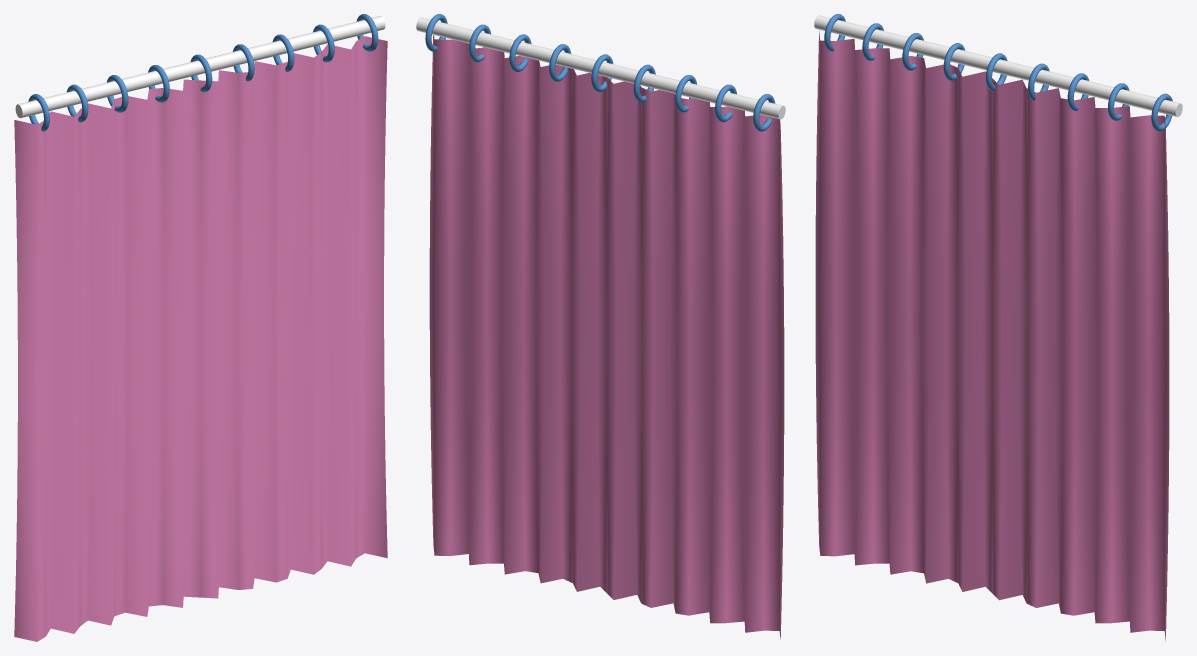
Rendered from curtain.fbx.
The picture shows the model from 3 angles, left to right: view 1: azimuth 30°, elevation 25°; view 2: azimuth 150°, elevation 25°; view 3: azimuth 330°, elevation 25°; orthographic projection.
Visible parts, largest first — view 1: Plane001, Cylinder001, Torus001; view 2: Plane001, Cylinder001, Torus001; view 3: Plane001, Cylinder001, Torus001.
Boxes of the visible parts, <box> form: Plane001: <box>14,36,387,641</box>; Cylinder001: <box>15,16,385,118</box>; Torus001: <box>28,14,378,131</box>; Plane001: <box>429,35,784,639</box>; Cylinder001: <box>416,17,785,119</box>; Torus001: <box>425,14,775,131</box>; Plane001: <box>815,30,1169,640</box>; Cylinder001: <box>814,15,1182,116</box>; Torus001: <box>824,14,1172,131</box>.
Size of the model in its own units: 528 by 747 by 48.75.
